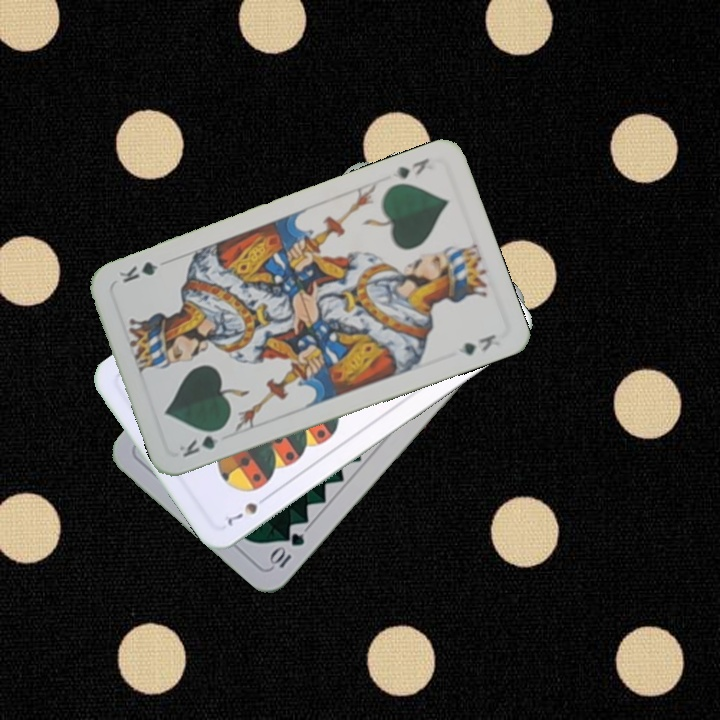G10: (266, 529, 308, 571)
GK: (175, 423, 228, 460), (392, 154, 432, 182)
S7: (220, 491, 272, 531)
